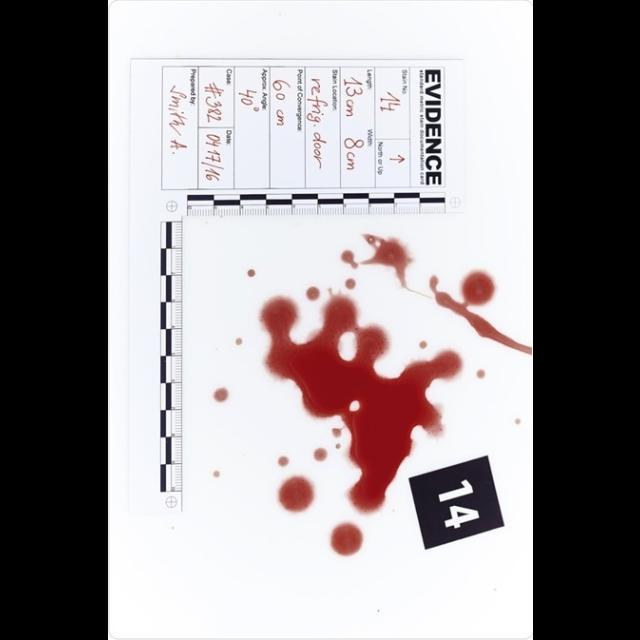blood: (258, 288, 463, 514), (429, 268, 532, 355), (359, 234, 414, 289), (278, 475, 315, 514), (330, 522, 364, 556), (341, 249, 358, 268), (213, 387, 229, 403), (306, 286, 320, 301), (313, 447, 328, 461), (344, 278, 356, 289)
